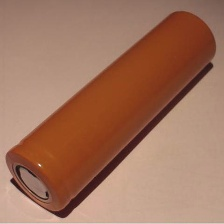battery: (4, 5, 219, 217)
